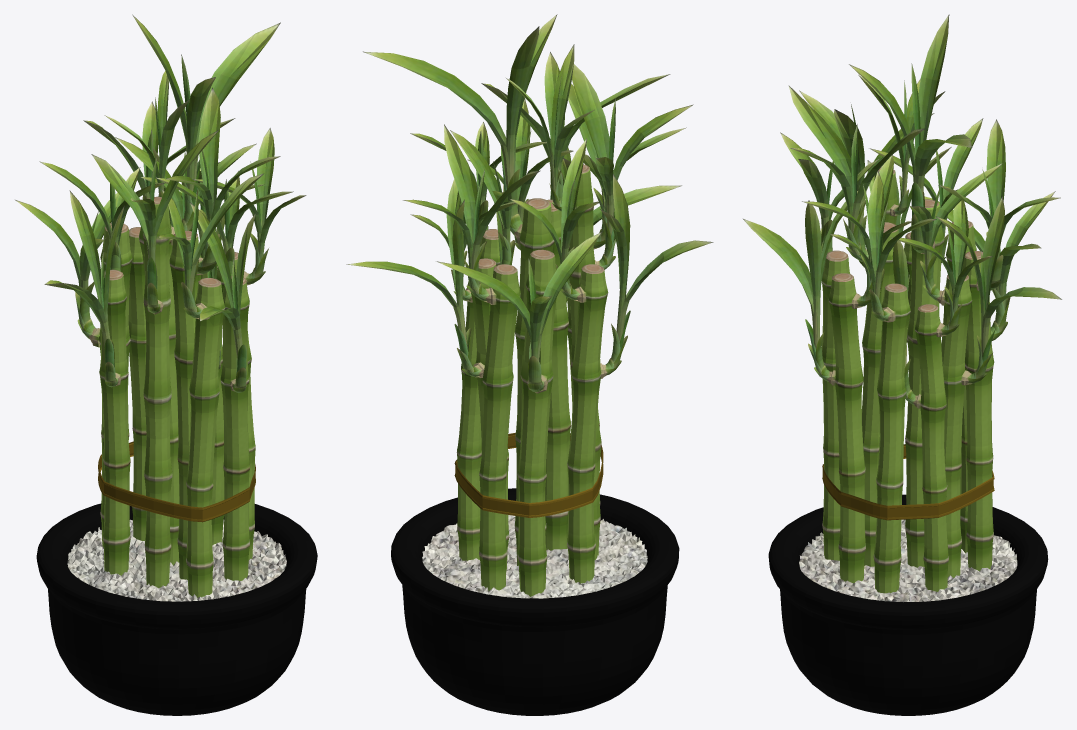
Rendered from luckyBamboo.obj.
3 renders of one model, left to right at view 1: azimuth 30°, elevation 25°; view 2: azimuth 150°, elevation 25°; view 3: azimuth 270°, elevation 25°, orthographic. The views are drawn at different scales.
Visible parts, largest first — view 1: Vase_Cylinder, Bamboo.008_Mesh.008, Bamboo.013_Mesh.014, Bamboo.014_Mesh.015, Bamboo.012_Mesh.013, Bamboo.004_Mesh.004, Flints_Plane, Bamboo.009_Mesh.009, Bamboo.007_Mesh.007, Bamboo.006_Mesh.006, Bamboo.000_Mesh.010, Ribbon_Mesh (+2 smaller); view 2: Vase_Cylinder, Bamboo.013_Mesh.014, Bamboo.007_Mesh.007, Bamboo.006_Mesh.006, Bamboo.008_Mesh.008, Bamboo.009_Mesh.009, Flints_Plane, Bamboo.004_Mesh.004, Bamboo.010_Mesh.011, Bamboo.011_Mesh.012, Ribbon_Mesh, Bamboo.012_Mesh.013 (+2 smaller); view 3: Vase_Cylinder, Bamboo.012_Mesh.013, Bamboo.010_Mesh.011, Bamboo.000_Mesh.010, Bamboo.011_Mesh.012, Bamboo.009_Mesh.009, Bamboo.007_Mesh.007, Bamboo.004_Mesh.004, Flints_Plane, Bamboo.014_Mesh.015, Bamboo.008_Mesh.008, Bamboo.006_Mesh.006 (+2 smaller).
Boxes of the visible parts, x1,y1,x2,y2 form: Vase_Cylinder: [36, 503, 317, 715]; Bamboo.008_Mesh.008: [91, 71, 219, 587]; Bamboo.013_Mesh.014: [39, 161, 165, 575]; Bamboo.014_Mesh.015: [158, 173, 263, 598]; Bamboo.012_Mesh.013: [156, 171, 293, 580]; Bamboo.004_Mesh.004: [165, 87, 280, 580]; Flints_Plane: [67, 519, 286, 601]; Bamboo.009_Mesh.009: [132, 14, 280, 565]; Bamboo.007_Mesh.007: [83, 101, 235, 540]; Bamboo.006_Mesh.006: [15, 180, 137, 547]; Bamboo.000_Mesh.010: [192, 128, 306, 559]; Ribbon_Mesh: [98, 441, 255, 522]; Vase_Cylinder: [391, 488, 679, 715]; Bamboo.013_Mesh.014: [509, 138, 713, 583]; Bamboo.007_Mesh.007: [403, 124, 540, 591]; Bamboo.006_Mesh.006: [436, 232, 601, 596]; Bamboo.008_Mesh.008: [506, 44, 693, 559]; Bamboo.009_Mesh.009: [363, 14, 557, 565]; Flints_Plane: [422, 515, 647, 598]; Bamboo.004_Mesh.004: [481, 52, 670, 550]; Bamboo.010_Mesh.011: [346, 130, 515, 570]; Bamboo.011_Mesh.012: [410, 199, 515, 560]; Ribbon_Mesh: [454, 433, 603, 517]; Bamboo.012_Mesh.013: [467, 98, 681, 303]; Vase_Cylinder: [768, 494, 1048, 715]; Bamboo.012_Mesh.013: [743, 154, 912, 582]; Bamboo.010_Mesh.011: [909, 163, 1061, 577]; Bamboo.000_Mesh.010: [830, 171, 936, 593]; Bamboo.011_Mesh.012: [890, 200, 992, 591]; Bamboo.009_Mesh.009: [849, 14, 972, 567]; Bamboo.007_Mesh.007: [938, 119, 1060, 571]; Bamboo.004_Mesh.004: [788, 85, 924, 566]; Flints_Plane: [799, 519, 1017, 602]; Bamboo.014_Mesh.015: [780, 132, 878, 560]; Bamboo.008_Mesh.008: [799, 74, 945, 267]; Bamboo.006_Mesh.006: [924, 191, 1055, 553].
Bounding box in the file's own units: 15.5 × 33.55 × 14.89.
